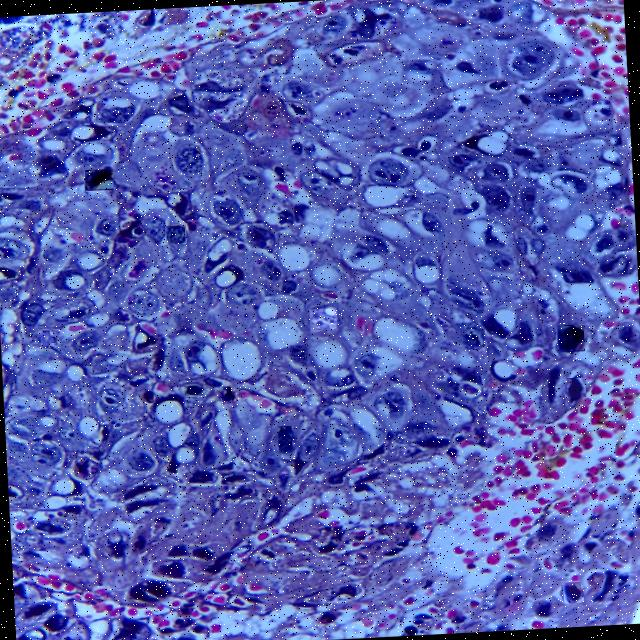Multiple Nucleol: (178, 144, 202, 174), (311, 307, 337, 328), (462, 326, 484, 346), (278, 424, 293, 452), (167, 224, 186, 243), (289, 343, 308, 358), (40, 331, 54, 346)
Nuclear Hyperchromatism: (558, 324, 585, 352), (85, 168, 113, 190), (564, 376, 586, 397), (562, 582, 583, 602), (218, 386, 234, 402), (184, 384, 203, 395)
